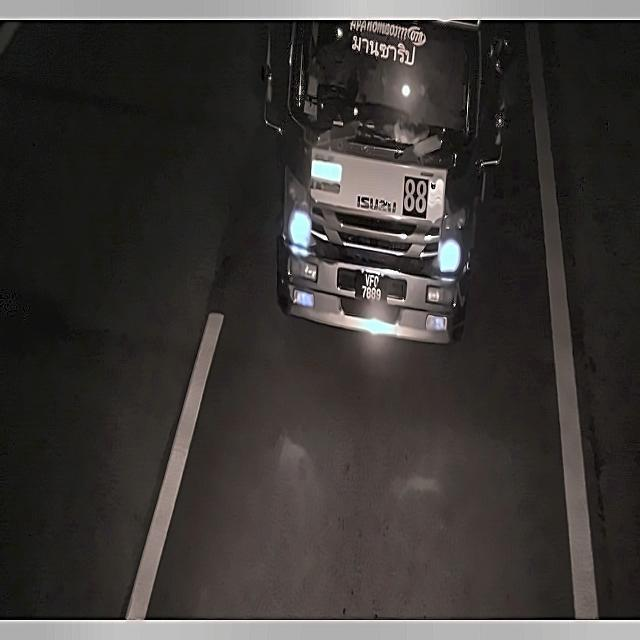car: (352, 269, 389, 305)
